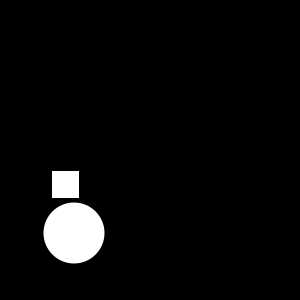circle: (52, 171, 79, 198)
rectangle: (44, 202, 104, 264)
